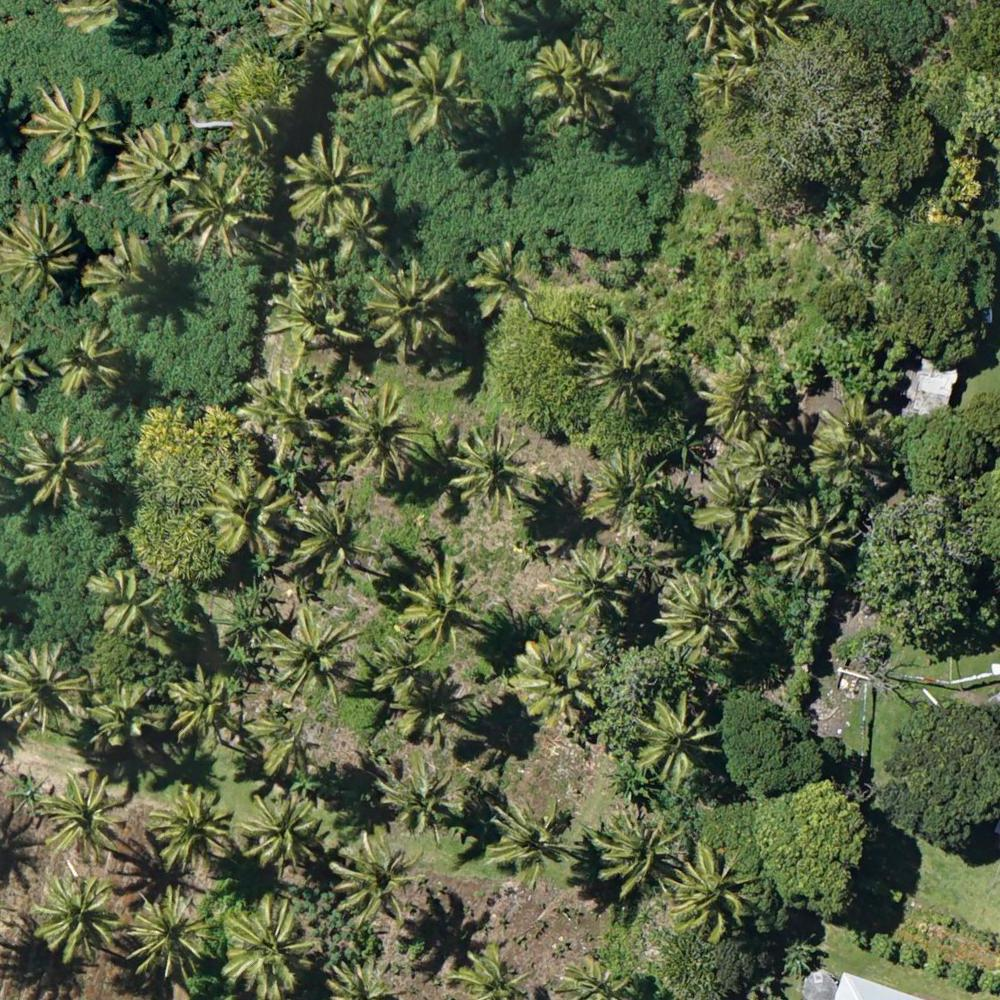Palm: (656, 569, 756, 661), (221, 900, 319, 992), (329, 833, 424, 925), (28, 80, 121, 172), (261, 610, 357, 698), (335, 388, 428, 478), (515, 636, 608, 726), (26, 874, 120, 963), (528, 40, 623, 128), (283, 133, 374, 222), (632, 695, 723, 784), (325, 2, 422, 85), (576, 323, 667, 410), (667, 846, 757, 933), (450, 427, 537, 516), (180, 164, 264, 256), (3, 644, 86, 736), (201, 465, 289, 551), (770, 494, 855, 583), (366, 268, 456, 352), (400, 556, 484, 646), (38, 774, 123, 861), (482, 796, 572, 876), (130, 890, 212, 977), (116, 126, 200, 210), (595, 811, 680, 894), (286, 496, 369, 580), (242, 790, 324, 875), (19, 419, 100, 505), (149, 785, 235, 866), (376, 755, 455, 842), (245, 374, 335, 450), (397, 54, 482, 134), (693, 469, 772, 554), (1, 209, 78, 294), (584, 450, 665, 527), (555, 546, 632, 621), (278, 262, 351, 339), (818, 394, 885, 475), (167, 671, 235, 741), (95, 566, 163, 633), (470, 245, 535, 315), (99, 680, 163, 746), (699, 371, 764, 435), (57, 331, 122, 393), (326, 198, 385, 257), (688, 56, 749, 107)
